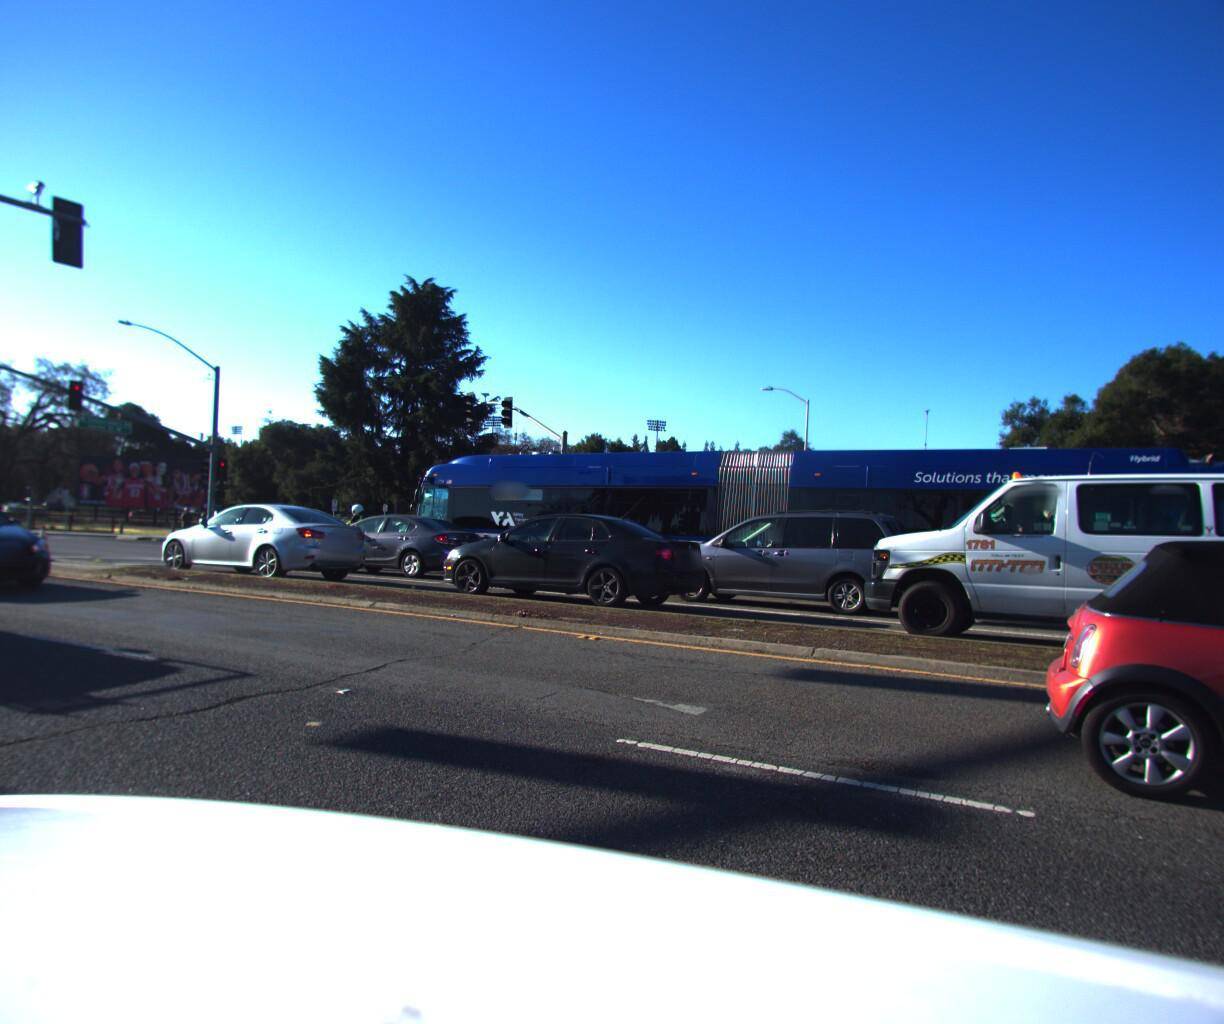bicycle: (166, 501, 197, 538)
bus: (380, 432, 1224, 629)
car: (1008, 522, 1224, 945), (852, 463, 1224, 696), (628, 498, 933, 620), (413, 503, 722, 616), (135, 494, 383, 584), (285, 504, 494, 579), (0, 483, 76, 596), (1192, 514, 1224, 650)
motorcycle: (308, 499, 392, 567)
